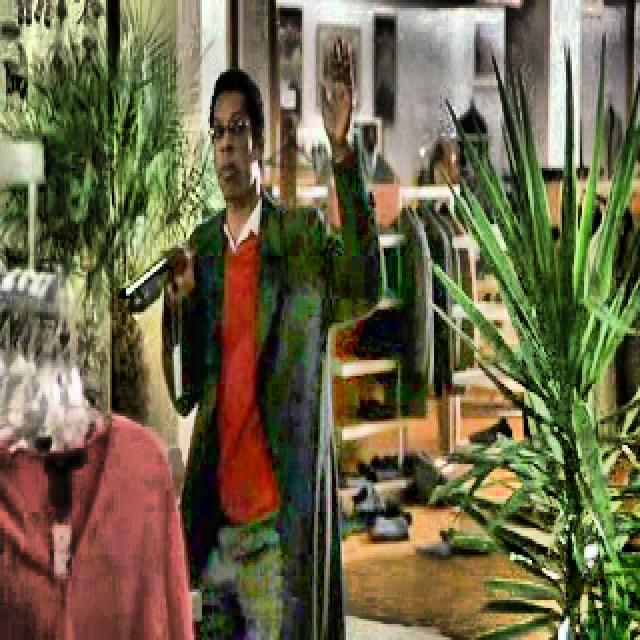L: (123, 43, 386, 637)
